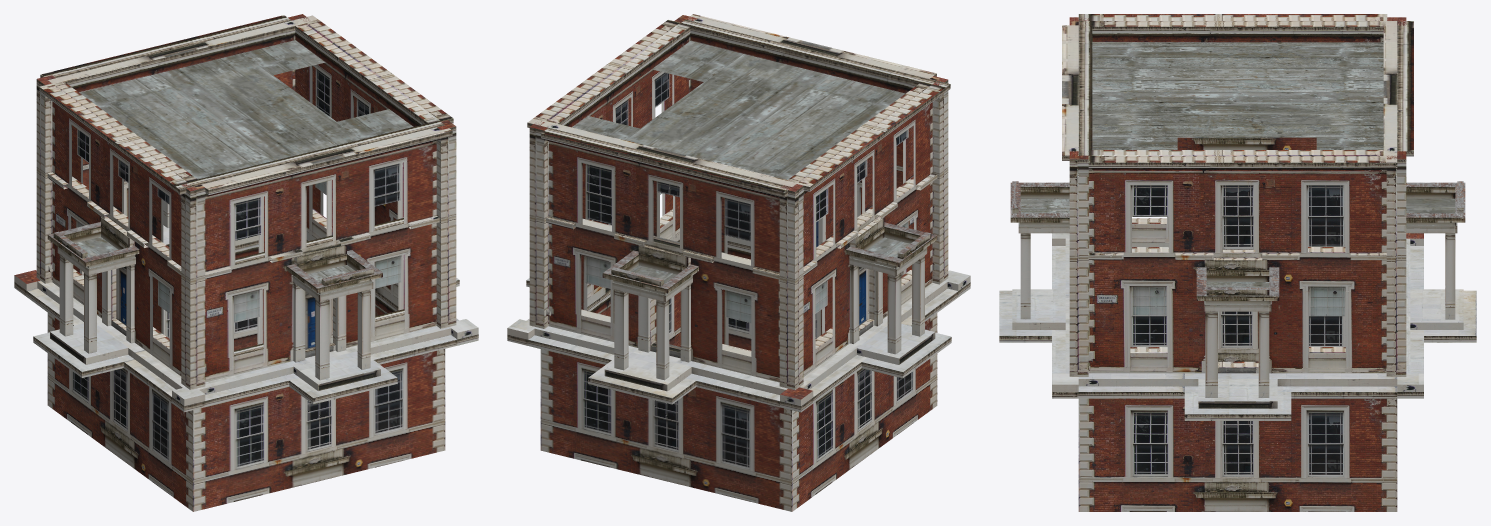
Rendered from BagBuilding13_140.fbx.
3 views of the same model, side by side, from view 1: azimuth 30°, elevation 25°; view 2: azimuth 150°, elevation 25°; view 3: azimuth 270°, elevation 25° (orthographic). The views are drawn at different scales.
Visible parts, largest first — view 1: main140, roof140, marble140, floor140; view 2: main140, roof140, marble140, floor140; view 3: main140, roof140, marble140, floor140.
Boxes of the visible parts, x1,y1,x2,y2 form: main140: (14,14,478,511); roof140: (75,40,413,294); marble140: (27,225,477,400); floor140: (48,222,382,288); main140: (507,14,970,511); roof140: (572,41,909,295); marble140: (508,270,970,400); floor140: (603,222,936,288); main140: (999,14,1476,511); roof140: (1018,42,1457,304); marble140: (999,233,1476,414); floor140: (1010,181,1465,296).
Size of the model in its own units: 30.48 by 25.09 by 30.48.
